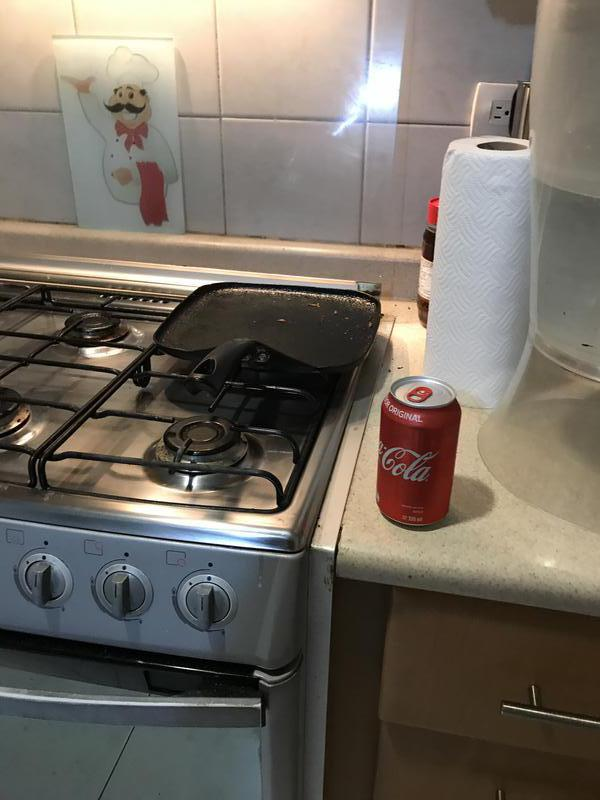coca_cola: (377, 378, 461, 533)
